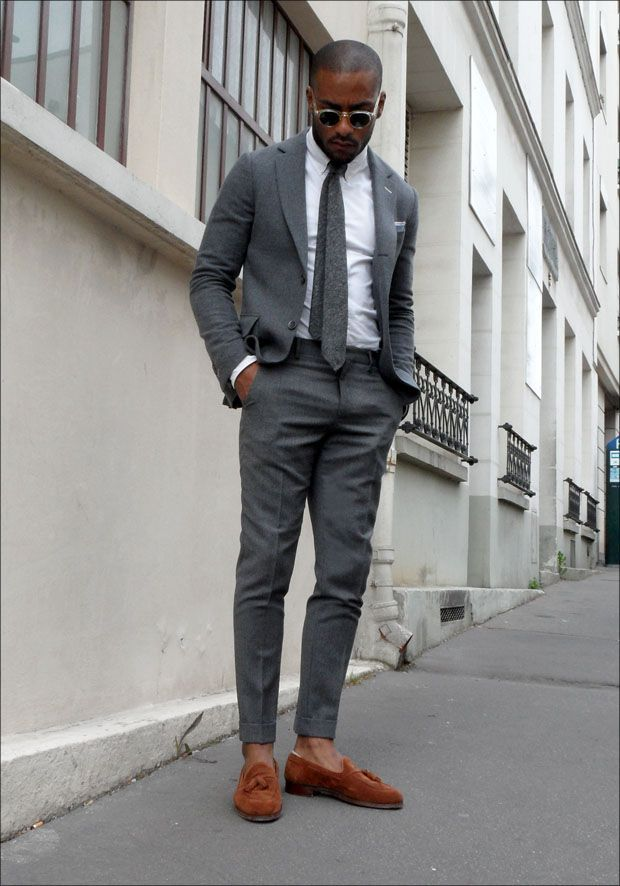NOTSAFE: (236, 34, 393, 393)
